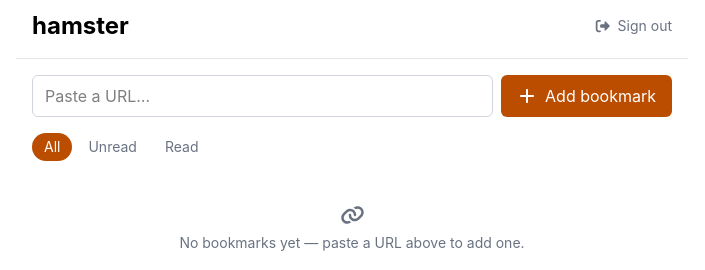
Test: BookmarksPage › adds a bookmark and refreshes the list
Type "https://example.com" into the field labelled "URL" at (262, 96), box [32, 75, 493, 117]
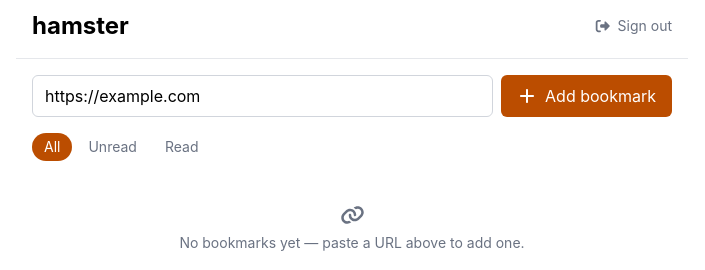
Click the button "Add bookmark" at (586, 96), box [501, 75, 672, 117]
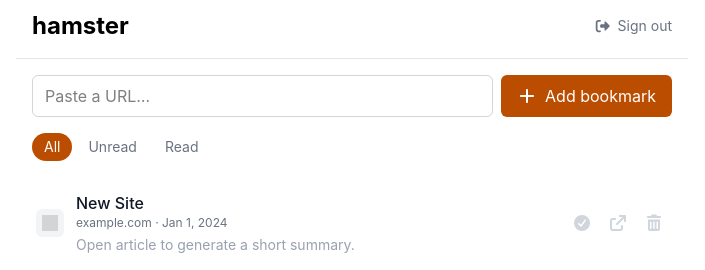
Check: the link "New Site" is shown, box [36, 193, 355, 253]
